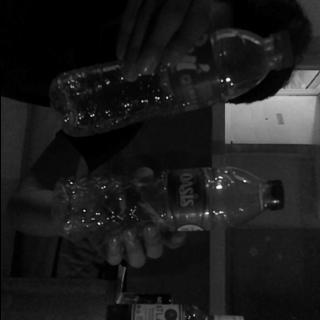plastic_bottles: (50, 31, 292, 138), (46, 162, 284, 240)
